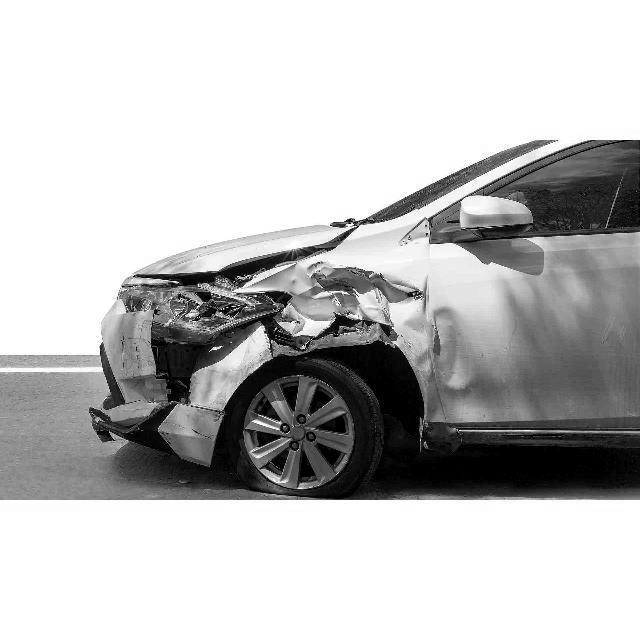Headlight-damage: (126, 274, 273, 346)
doorouter-dent: (424, 284, 522, 444)
fender-dent: (251, 250, 420, 357)
front-bumper-dent: (101, 354, 233, 471)
